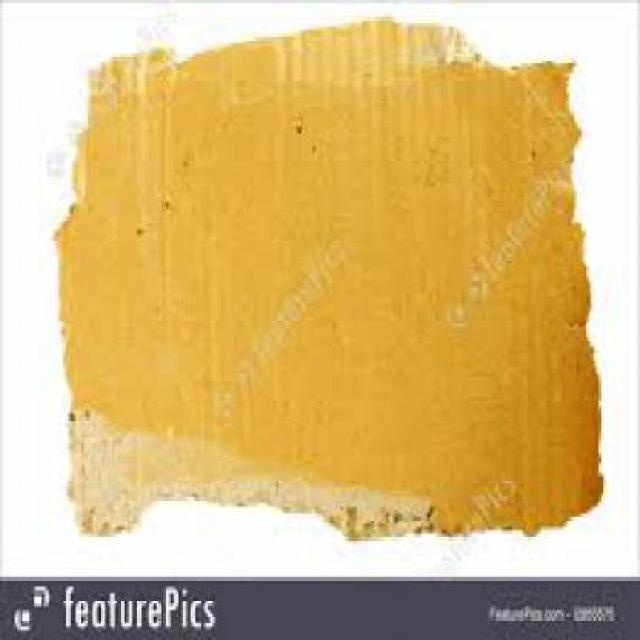cardboard: (54, 14, 604, 537)
